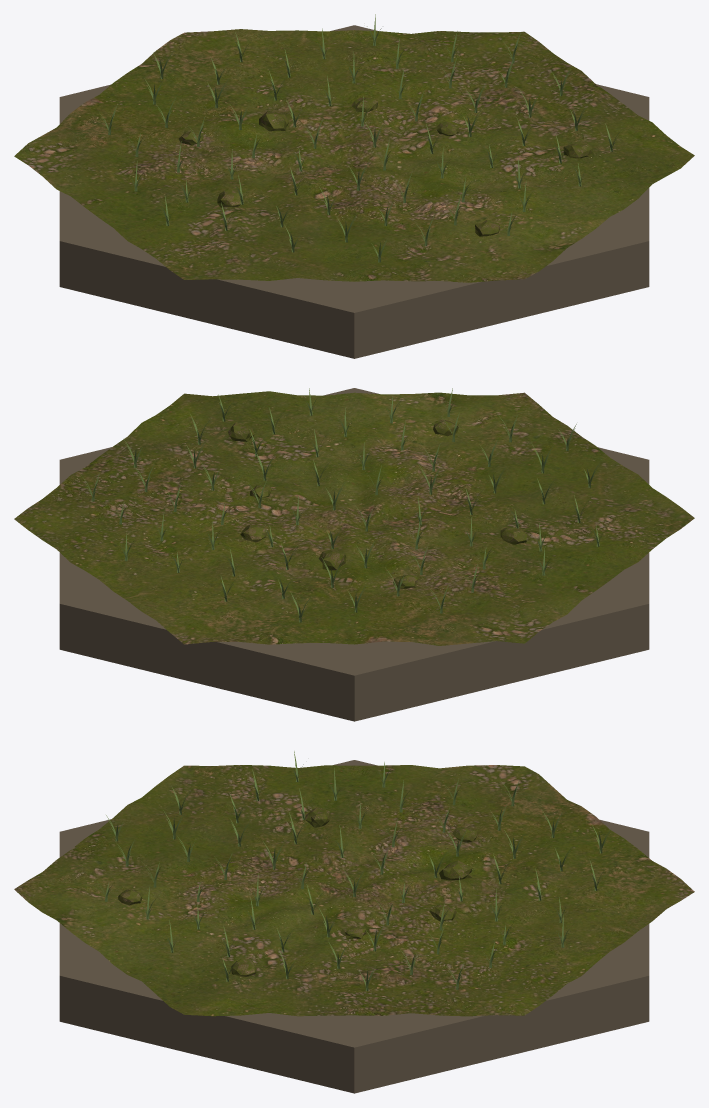
File: rocky-ground.glb
3 renders of one model, top to bottom at view 1: azimuth 30°, elevation 25°; view 2: azimuth 150°, elevation 25°; view 3: azimuth 270°, elevation 25°, orthographic.
Parts seen in each view (by area): view 1: Rock grass surface, Cylinder, Scattered grass tufts; view 2: Rock grass surface, Cylinder, Scattered grass tufts; view 3: Rock grass surface, Cylinder, Scattered grass tufts.
Boxes of the visible parts, left/top/right/bottom form: Rock grass surface: left=14, top=29, right=694, bottom=282; Cylinder: left=59, top=25, right=649, bottom=358; Scattered grass tufts: left=99, top=14, right=621, bottom=262; Rock grass surface: left=14, top=391, right=694, bottom=645; Cylinder: left=59, top=388, right=649, bottom=721; Scattered grass tufts: left=80, top=388, right=605, bottom=622; Rock grass surface: left=14, top=765, right=694, bottom=1016; Cylinder: left=59, top=760, right=649, bottom=1093; Scattered grass tufts: left=95, top=751, right=610, bottom=991.
Size of the model in its own units: 1.88 by 0.274 by 1.88.
Materials: 3 (1 with a texture image).
